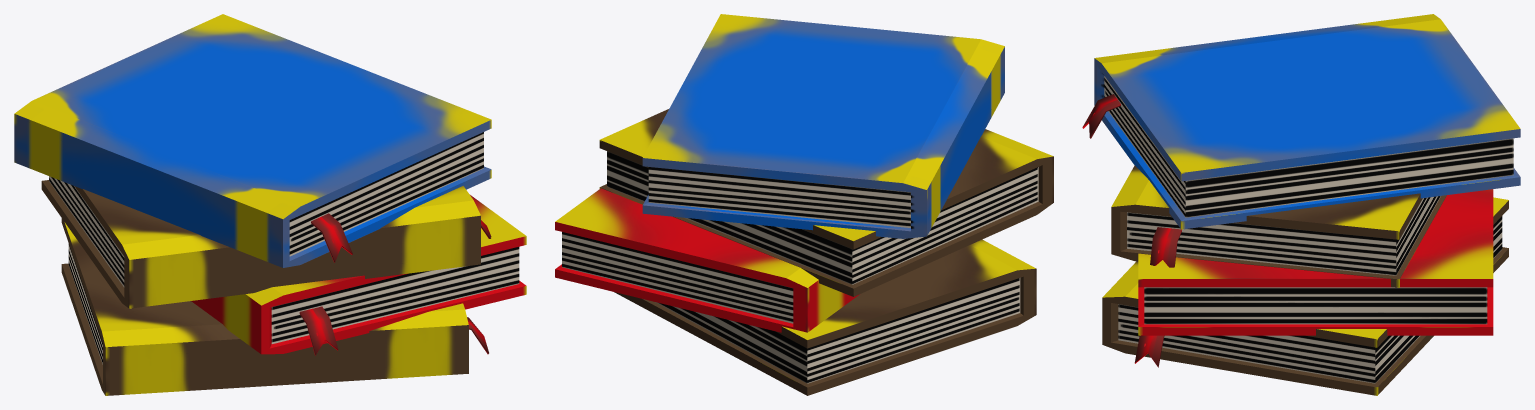
The model's file is Stacked books 1.glb.
3 renders of one model, left to right at view 1: azimuth 30°, elevation 25°; view 2: azimuth 150°, elevation 25°; view 3: azimuth 270°, elevation 25°, orthographic. The views are drawn at different scales.
Parts seen in each view (by area): view 1: Cube.004; view 2: Cube.004; view 3: Cube.004.
Boxes of the visible parts, x1,y1,x2,y2 form: Cube.004: (14, 14, 526, 395); Cube.004: (555, 14, 1053, 395); Cube.004: (1082, 14, 1520, 395).
Bounding box in the file's own units: 0.3355 × 0.1739 × 0.3345.
Materials: 5 (5 with a texture image).
